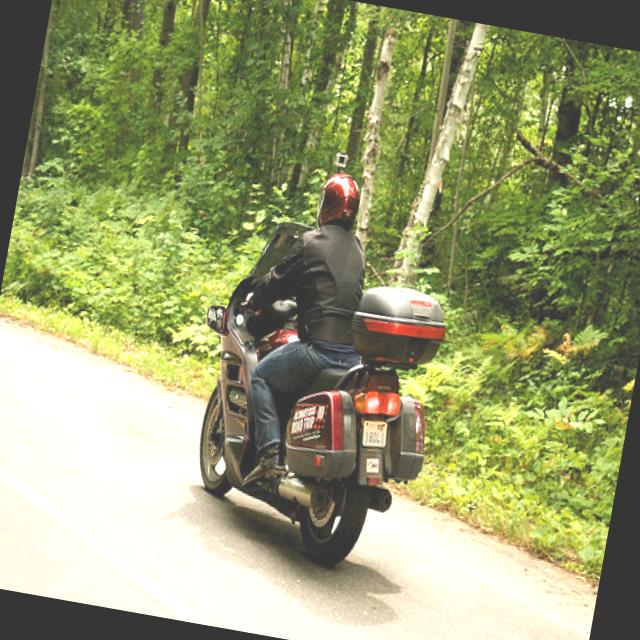Vehicle: (162, 211, 476, 580)
